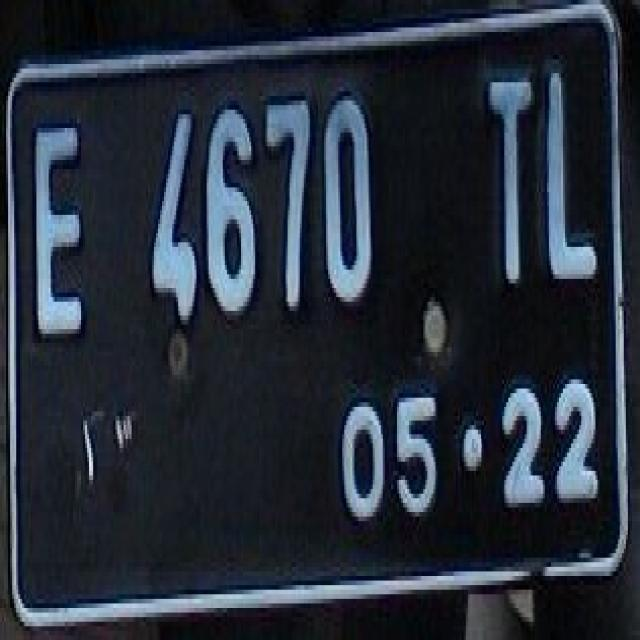plate: (4, 0, 628, 608)
